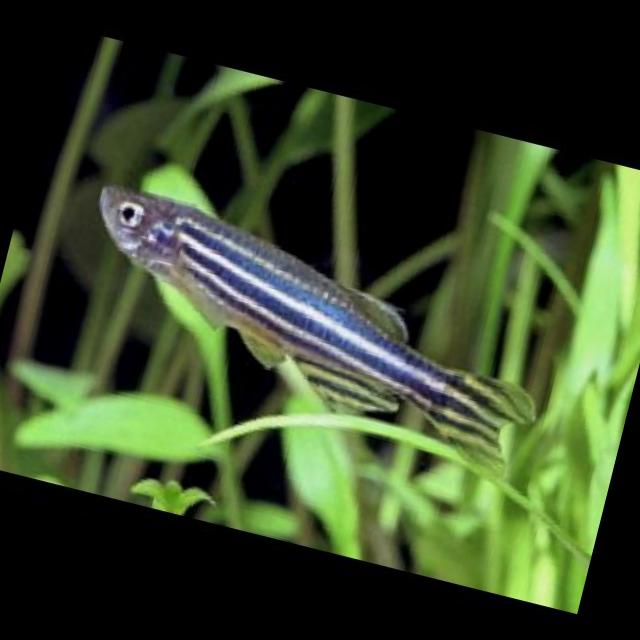ZebraFish: (55, 178, 566, 490)
